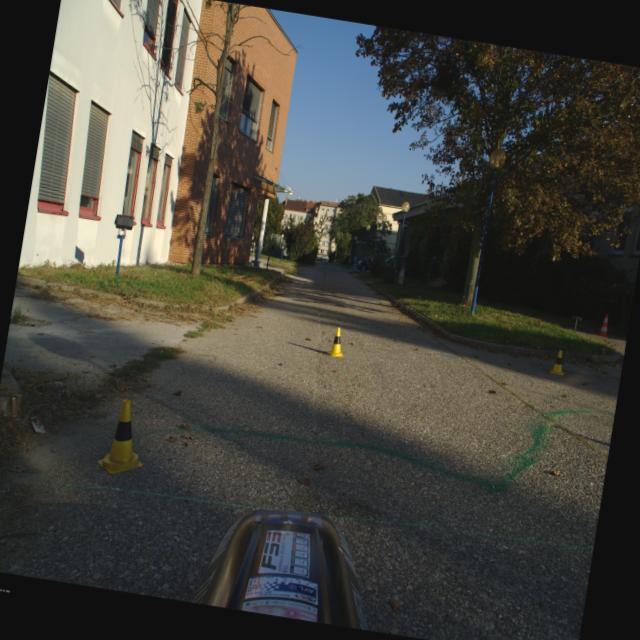large_orange_cone: (598, 312, 612, 338)
yellow_cone: (96, 396, 152, 478), (326, 326, 348, 358), (550, 350, 568, 376)
